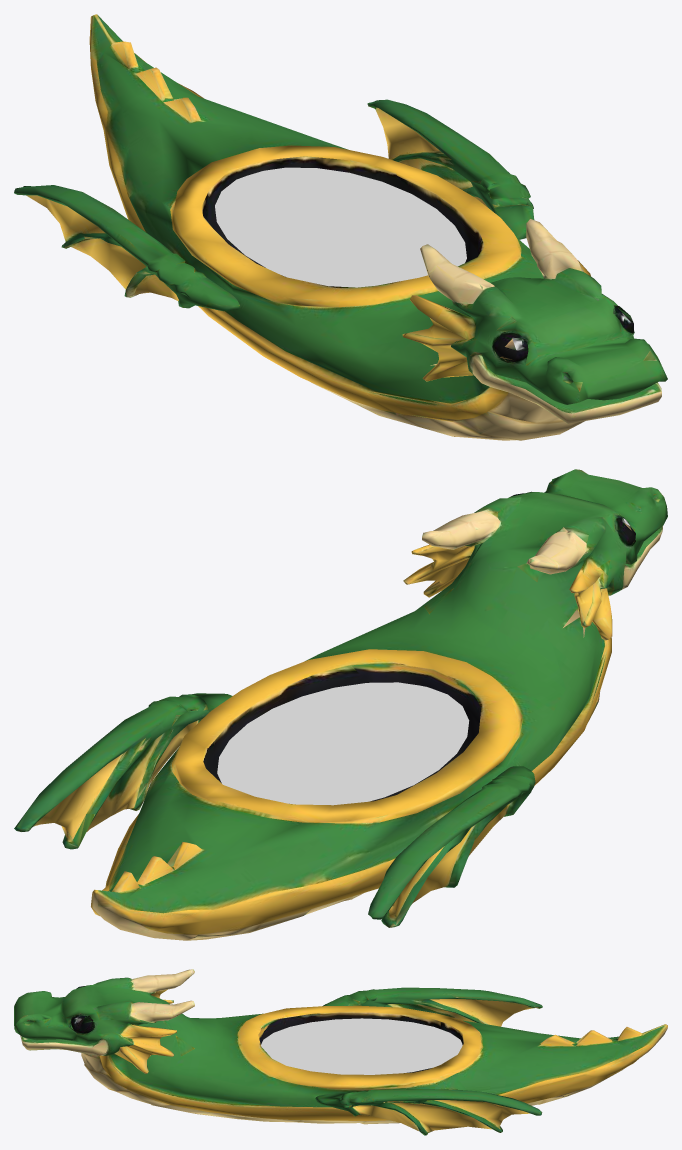
The model's file is Kayak_Dragon.glb.
The picture shows the model from 3 angles, top to bottom: view 1: azimuth 30°, elevation 25°; view 2: azimuth 150°, elevation 25°; view 3: azimuth 270°, elevation 25°; orthographic projection. The views are drawn at different scales.
Parts seen in each view (by area): view 1: Kayak_Dragon, Kayak_Dragon_Cockpit; view 2: Kayak_Dragon, Kayak_Dragon_Cockpit; view 3: Kayak_Dragon, Kayak_Dragon_Cockpit.
Boxes of the visible parts, bbox=[...] form: Kayak_Dragon: bbox=[14, 14, 667, 440]; Kayak_Dragon_Cockpit: bbox=[215, 167, 466, 287]; Kayak_Dragon: bbox=[14, 469, 667, 940]; Kayak_Dragon_Cockpit: bbox=[217, 682, 469, 805]; Kayak_Dragon: bbox=[14, 969, 667, 1135]; Kayak_Dragon_Cockpit: bbox=[261, 1018, 462, 1074].
Bounding box in the file's own units: 4.01 × 2.02 × 10.
Materials: 2 (1 with a texture image).
